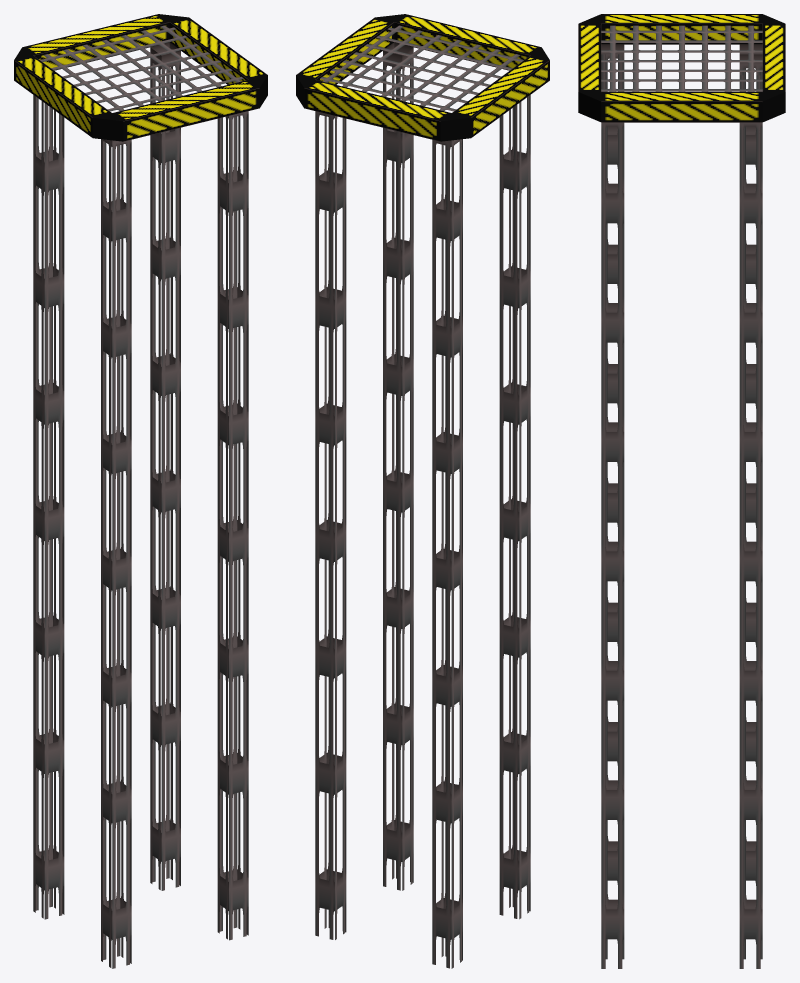
Rendered from Platform_7.fbx.
3 renders of one model, left to right at view 1: azimuth 30°, elevation 25°; view 2: azimuth 150°, elevation 25°; view 3: azimuth 270°, elevation 25°, orthographic. The views are drawn at different scales.
Parts seen in each view (by area): view 1: Metal_Platform_0; view 2: Metal_Platform_0; view 3: Metal_Platform_0.
Part boxes in pixels (x1,y1,x2,y2): Metal_Platform_0: [14, 14, 267, 968]; Metal_Platform_0: [296, 14, 549, 968]; Metal_Platform_0: [578, 14, 785, 968].
Size of the model in its own units: 225 by 1050 by 225.
1 material, 1 textured.
